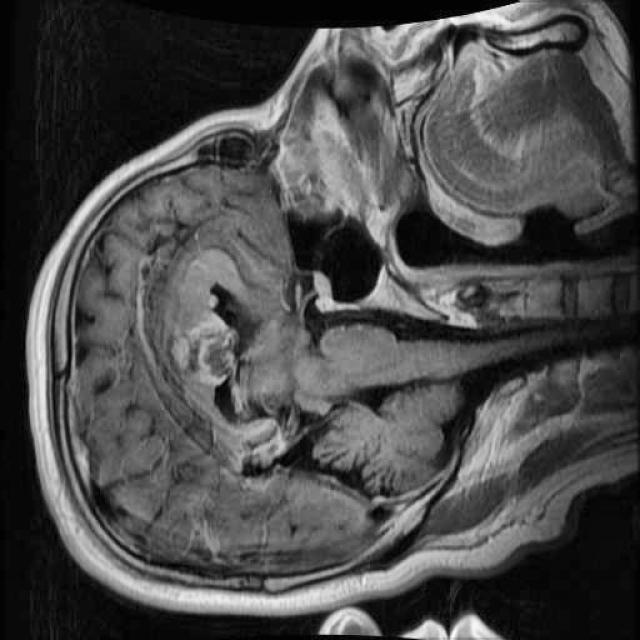Tumor: (154, 291, 255, 400)
